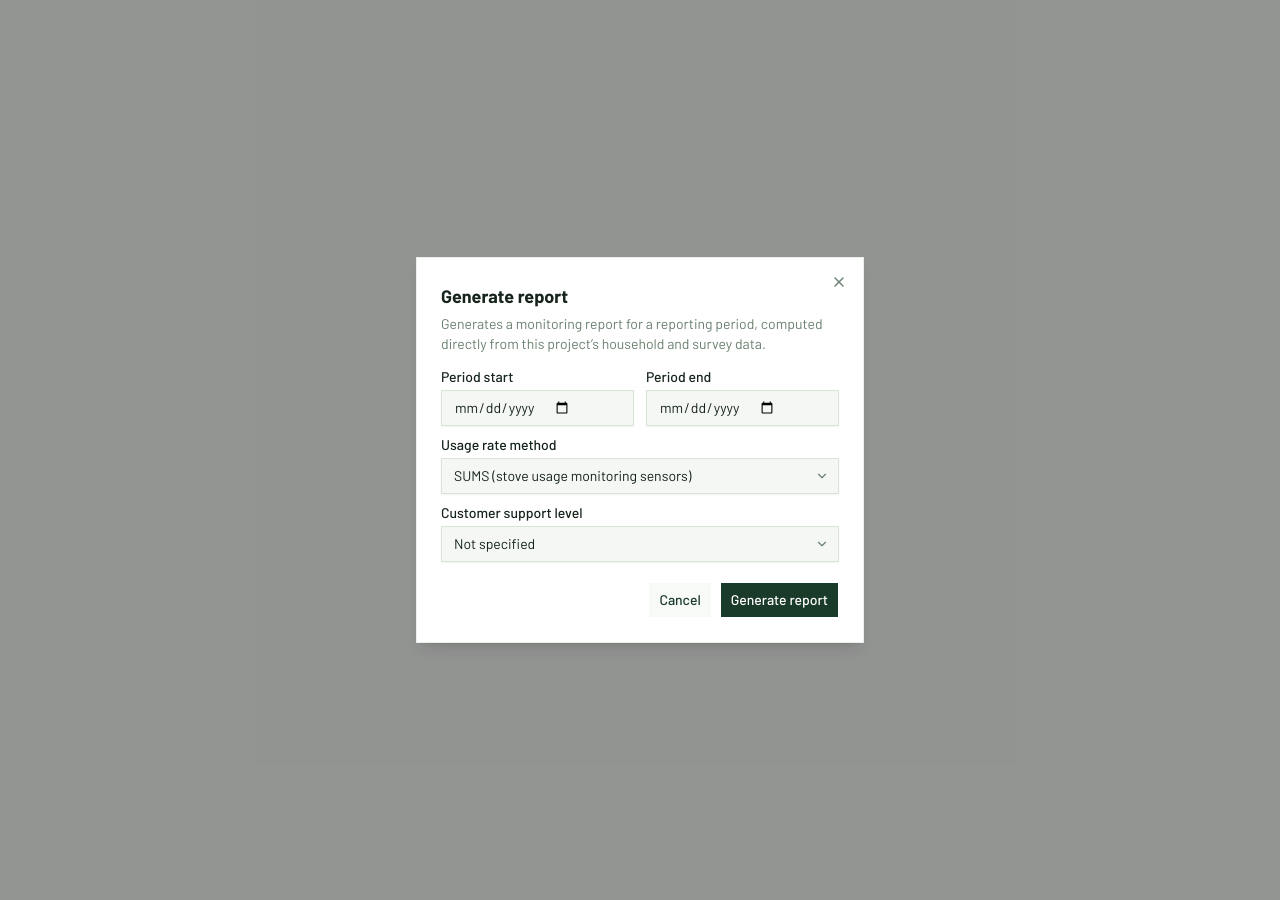
GenerateReportDialog › submits with SUMS method and no customer support level required
Type "2026-01-01" into the date field labelled "Period start" at (538, 408), box [441,390,634,426]
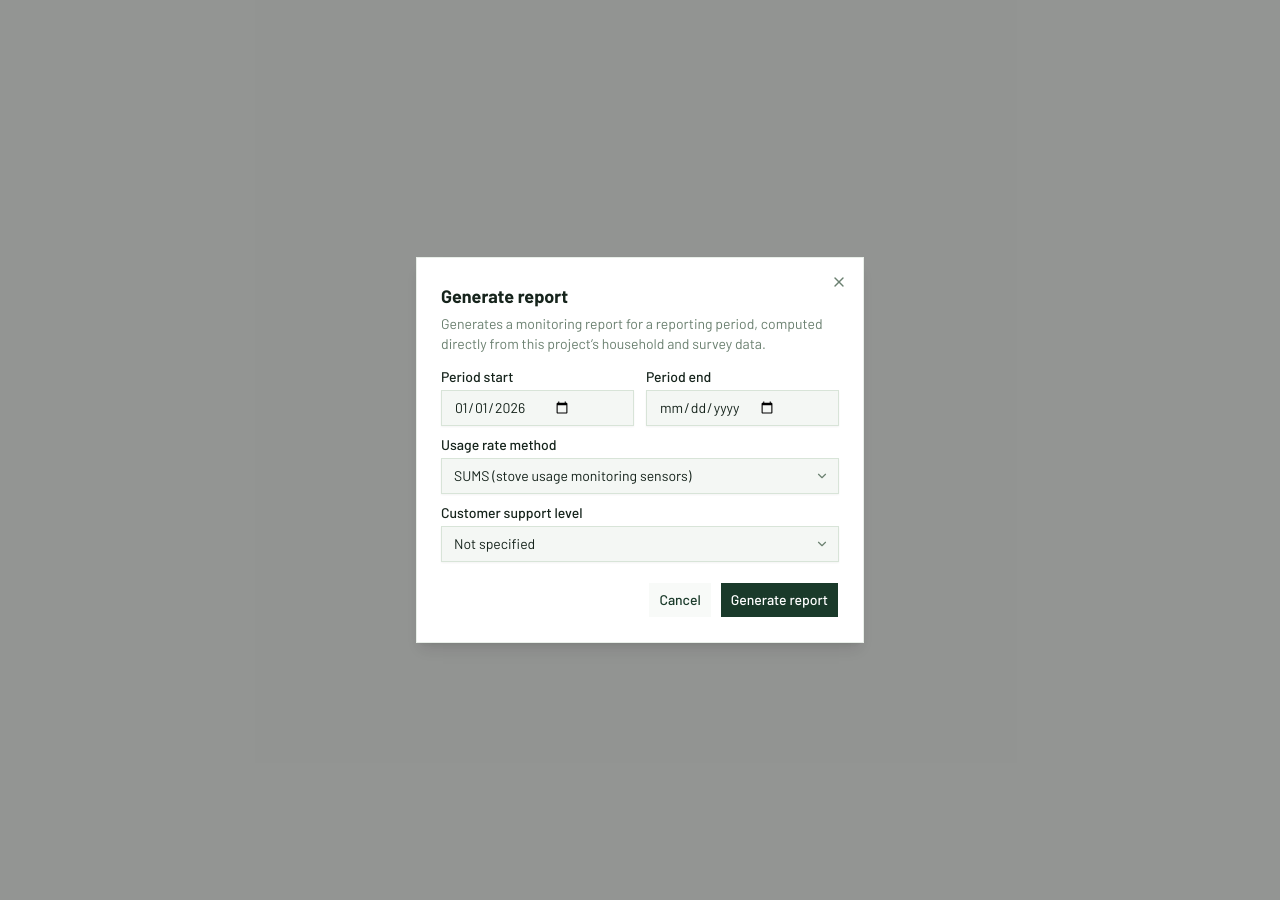
Type "2026-06-30" into the date field labelled "Period end" at (742, 408), box [646,390,839,426]
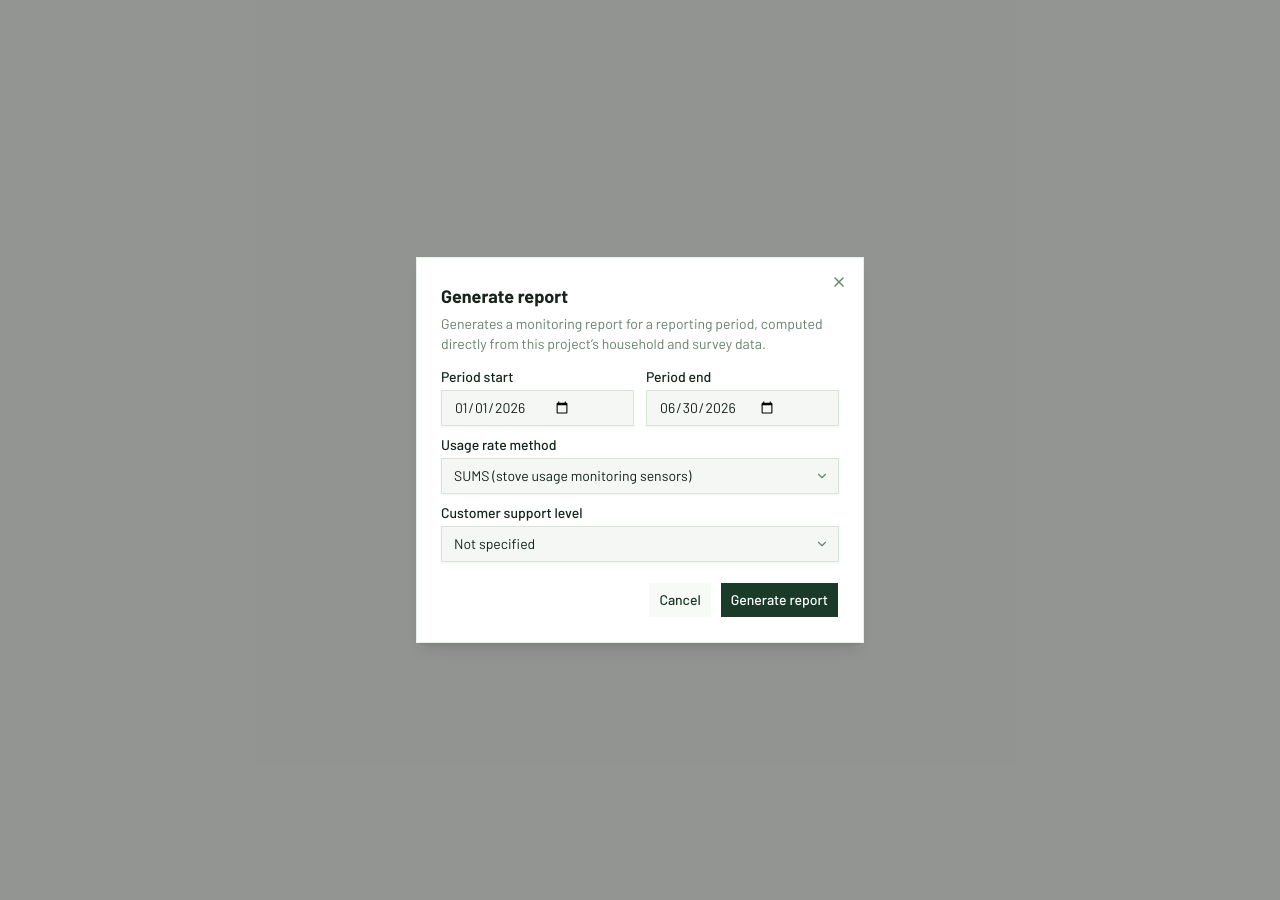
Click the button "Generate report" at (779, 600), box [720,582,839,618]
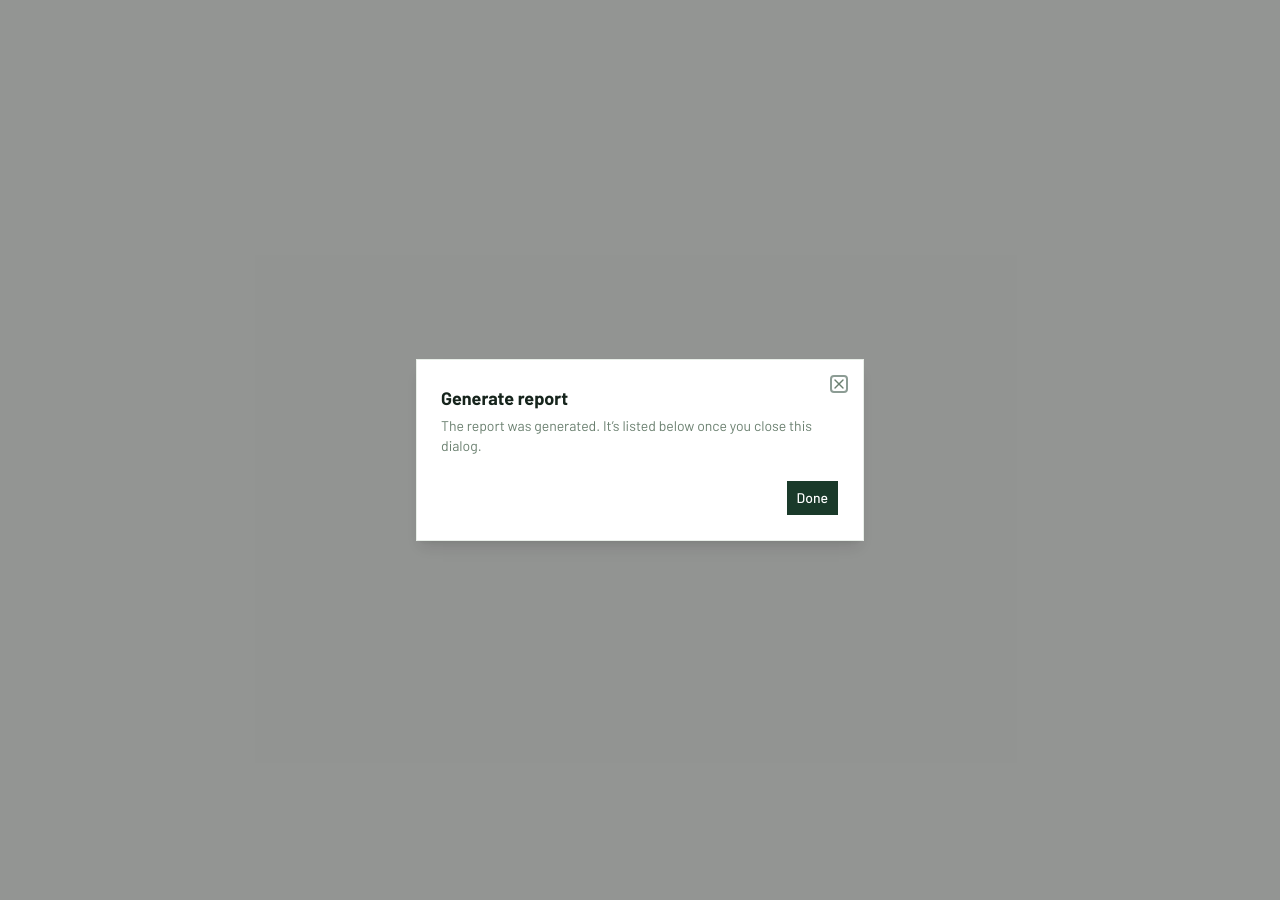
Now the text "report was generated" is shown, box [441,417,812,454]
